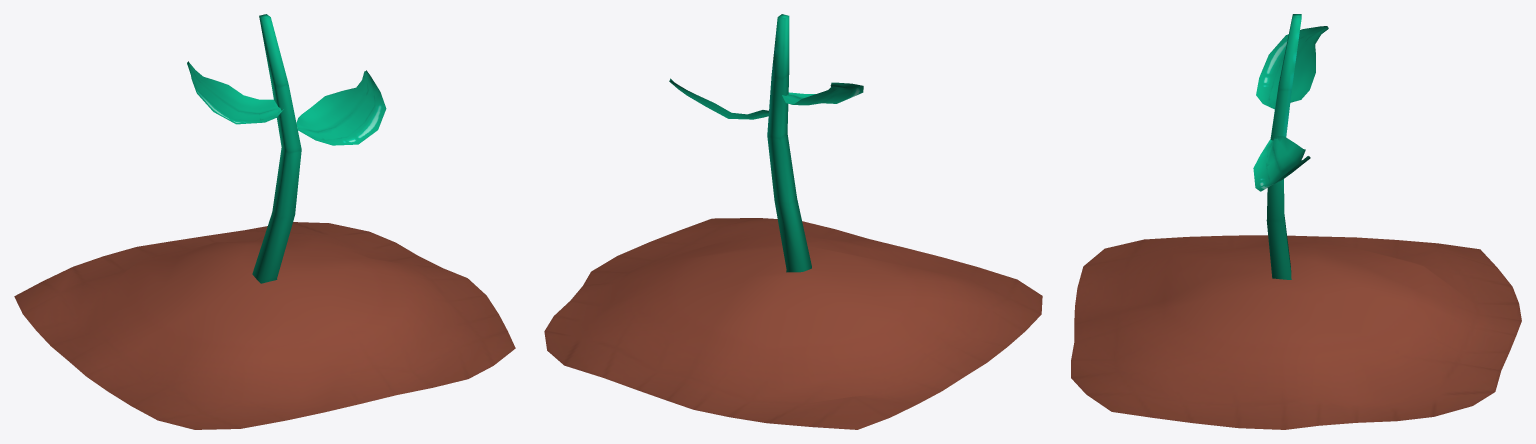
The model's file is Plant.fbx.
3 renders of one model, left to right at view 1: azimuth 30°, elevation 25°; view 2: azimuth 150°, elevation 25°; view 3: azimuth 270°, elevation 25°, orthographic. The views are drawn at different scales.
Parts seen in each view (by area): view 1: Plant; view 2: Plant; view 3: Plant.
Boxes of the visible parts, left/top/right/bottom form: Plant: left=14, top=14, right=515, bottom=429; Plant: left=544, top=14, right=1042, bottom=429; Plant: left=1071, top=14, right=1521, bottom=429.
Size of the model in its own units: 158 by 145 by 155.
